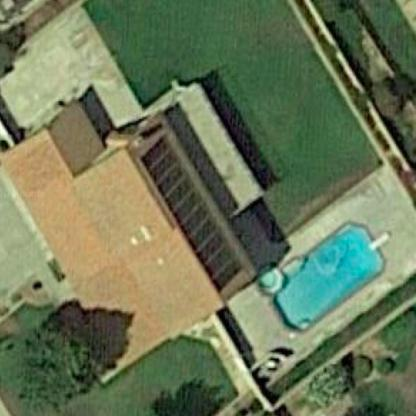solar_panel: (128, 115, 247, 299)
swimming_pool: (261, 204, 410, 344)
